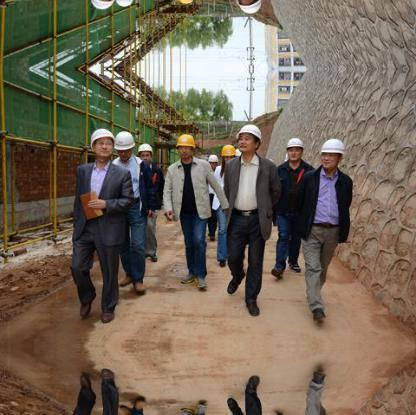helmet: (236, 121, 265, 149), (86, 124, 114, 151), (316, 137, 350, 159), (173, 126, 198, 152), (113, 128, 137, 154), (136, 141, 155, 159), (284, 135, 303, 152), (220, 143, 236, 158), (206, 152, 218, 165)
